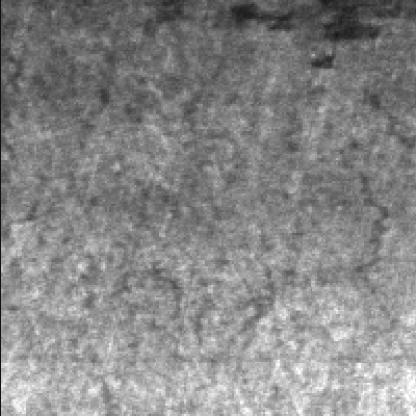crazing: (244, 90, 416, 362), (69, 235, 235, 414), (3, 2, 121, 241)
